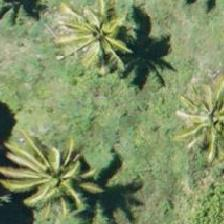coconut_tree: (18, 133, 108, 223), (53, 0, 143, 79), (175, 70, 223, 160)
